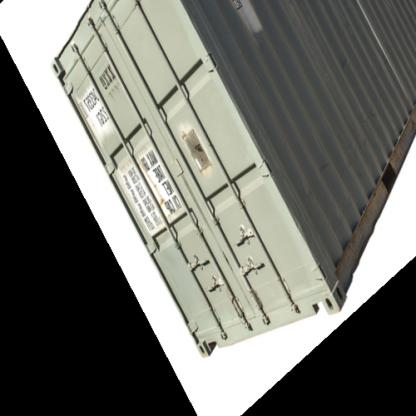Damage: (341, 182, 396, 267)
